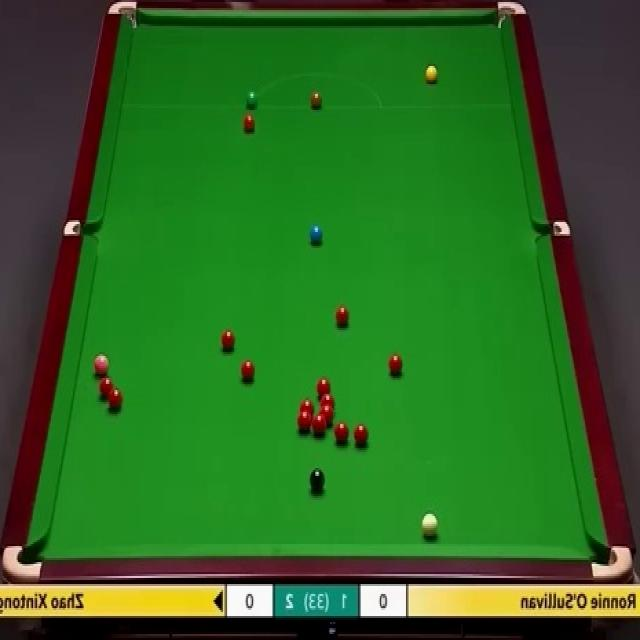black-ball: (309, 467, 325, 493)
blue-ball: (310, 224, 323, 242)
brown-ball: (310, 92, 323, 109)
green-ball: (244, 90, 258, 108)
pink-ball: (92, 354, 110, 378)
red-ball: (312, 414, 326, 439), (108, 388, 122, 413), (98, 378, 115, 398), (388, 354, 404, 375), (296, 411, 312, 432), (334, 421, 349, 443), (353, 423, 368, 445), (242, 361, 256, 382), (333, 309, 348, 328), (300, 398, 314, 416), (222, 330, 234, 350), (321, 408, 334, 426), (243, 114, 256, 132), (318, 377, 329, 398), (321, 397, 334, 413)
white-ball: (420, 513, 439, 541)
yellow-ball: (426, 64, 438, 85)
